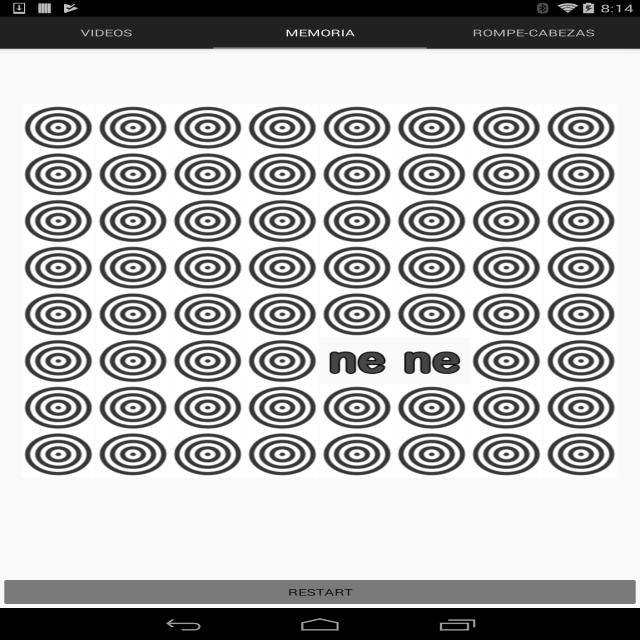Button: (0, 576, 640, 608)
ImageView: (21, 104, 96, 151), (469, 104, 544, 151), (21, 244, 96, 291), (469, 244, 544, 291), (21, 384, 96, 431), (469, 384, 544, 431), (96, 104, 170, 151), (170, 104, 244, 151), (246, 104, 320, 151), (320, 104, 394, 151), (394, 104, 468, 151), (544, 104, 618, 151), (96, 244, 170, 291), (170, 244, 244, 291), (246, 244, 320, 291), (320, 244, 394, 291), (394, 244, 468, 291), (544, 244, 618, 291), (96, 384, 170, 431), (170, 384, 244, 431), (246, 384, 320, 431), (320, 384, 394, 431), (394, 384, 468, 431), (544, 384, 618, 431), (21, 151, 96, 197), (469, 151, 544, 197), (21, 198, 96, 244), (469, 198, 544, 244), (21, 291, 96, 337), (469, 291, 544, 337), (21, 338, 96, 384), (469, 338, 544, 384), (21, 431, 96, 477), (469, 431, 544, 477), (96, 151, 170, 197), (170, 151, 244, 197), (246, 151, 320, 197), (320, 151, 394, 197), (394, 151, 468, 197), (544, 151, 618, 197), (96, 198, 170, 244), (170, 198, 244, 244), (246, 198, 320, 244), (320, 198, 394, 244), (394, 198, 468, 244), (544, 198, 618, 244), (96, 291, 170, 337), (170, 291, 244, 337), (246, 291, 320, 337), (320, 291, 394, 337), (394, 291, 468, 337), (544, 291, 618, 337), (96, 338, 170, 384), (170, 338, 244, 384), (246, 338, 320, 384), (320, 338, 394, 384), (394, 338, 468, 384), (544, 338, 618, 384), (96, 431, 170, 477), (170, 431, 244, 477), (246, 431, 320, 477), (320, 431, 394, 477), (394, 431, 468, 477), (544, 431, 618, 477)
TextView: (472, 26, 595, 39), (285, 26, 355, 39), (81, 26, 132, 39)
